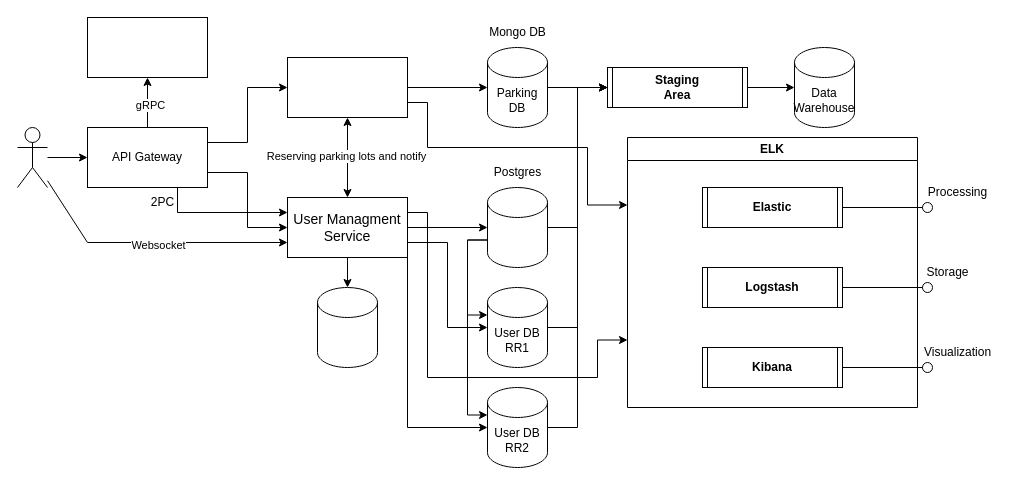
Some shapes in this 1020 by 485 pixel diagram are drawn without their labels. The shapes that lost their labels are listed below. From the top down, each one's box as (x1, y1, x2, y2) in pixels, then its label:
(86, 16, 208, 78): Service Discovery
(286, 56, 408, 118): Parking lots managment service
(16, 126, 48, 188): User
(486, 186, 548, 268): User DB WR
(316, 286, 378, 368): Redis
